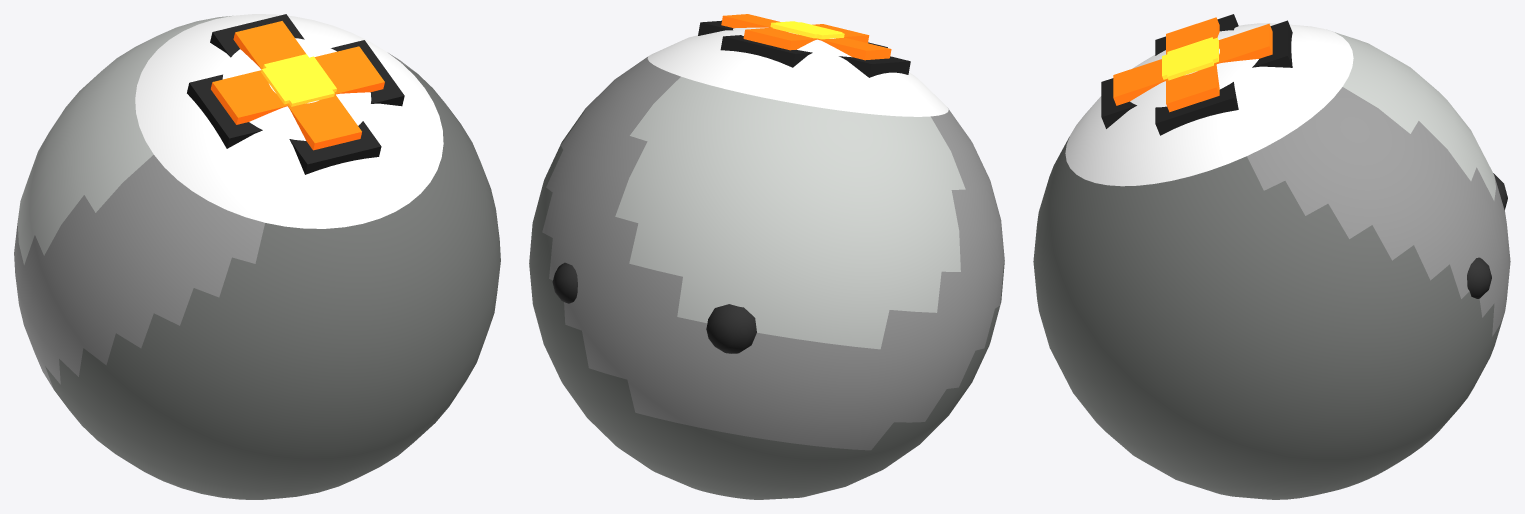
The model's file is seeker_mine_247.glb.
3 views of the same model, side by side, from view 1: azimuth 30°, elevation 25°; view 2: azimuth 150°, elevation 25°; view 3: azimuth 270°, elevation 25° (orthographic). The views are drawn at different scales.
Visible parts, largest first — view 1: seeker_mine_247; view 2: seeker_mine_247; view 3: seeker_mine_247.
Boxes of the visible parts, <box> form: seeker_mine_247: <box>14,14,500,499</box>; seeker_mine_247: <box>529,14,1004,499</box>; seeker_mine_247: <box>1033,14,1510,499</box>.
Size of the model in its own units: 8.9 by 9.11 by 8.9.
